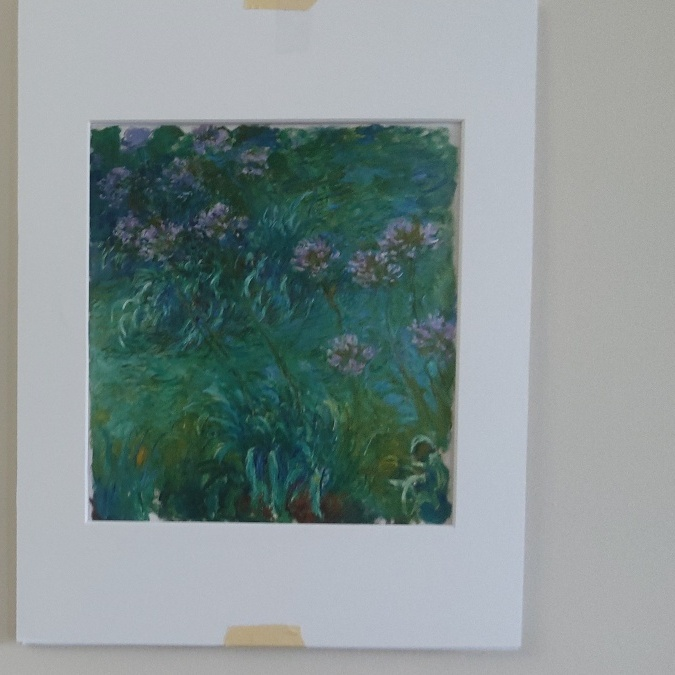painting: (77, 107, 469, 541)
